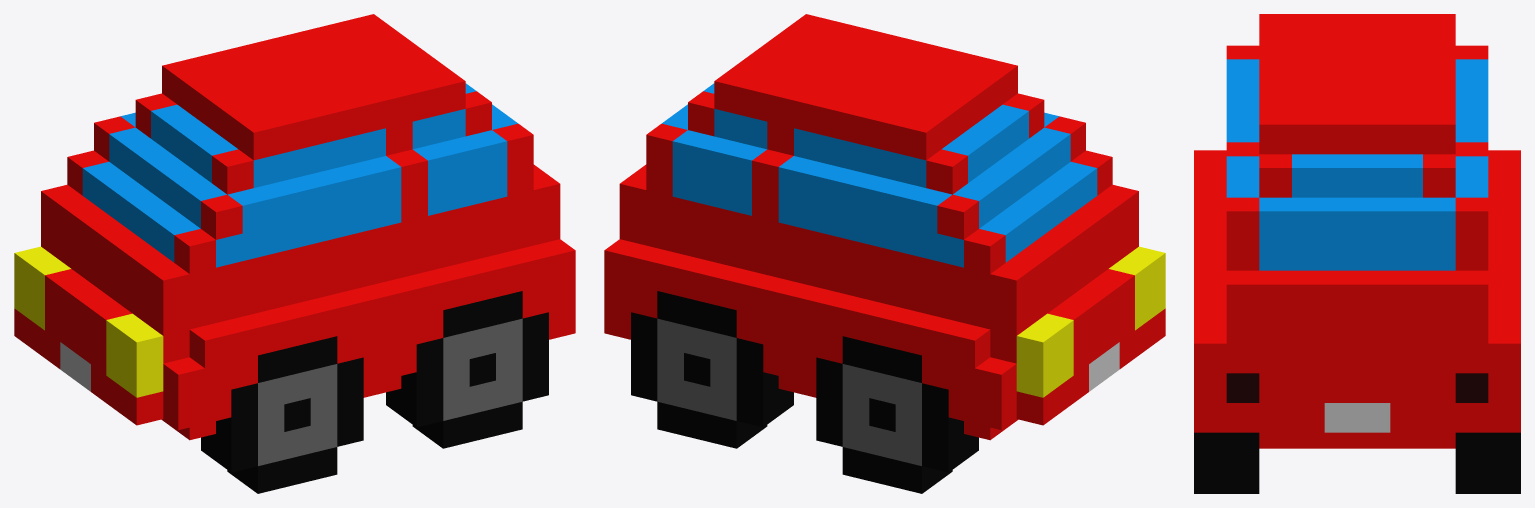
Rendered from car1.obj.
3 views of the same model, side by side, from view 1: azimuth 30°, elevation 25°; view 2: azimuth 150°, elevation 25°; view 3: azimuth 270°, elevation 25° (orthographic). The views are drawn at different scales.
Parts seen in each view (by area): view 1: Cube.511_Cube.7757; view 2: Cube.511_Cube.7757; view 3: Cube.511_Cube.7757.
Part boxes in pixels (x1,y1,x2,y2): Cube.511_Cube.7757: [14, 14, 575, 493]; Cube.511_Cube.7757: [604, 14, 1165, 493]; Cube.511_Cube.7757: [1194, 14, 1520, 493].
Size of the model in its own units: 1 by 0.75 by 0.625.
